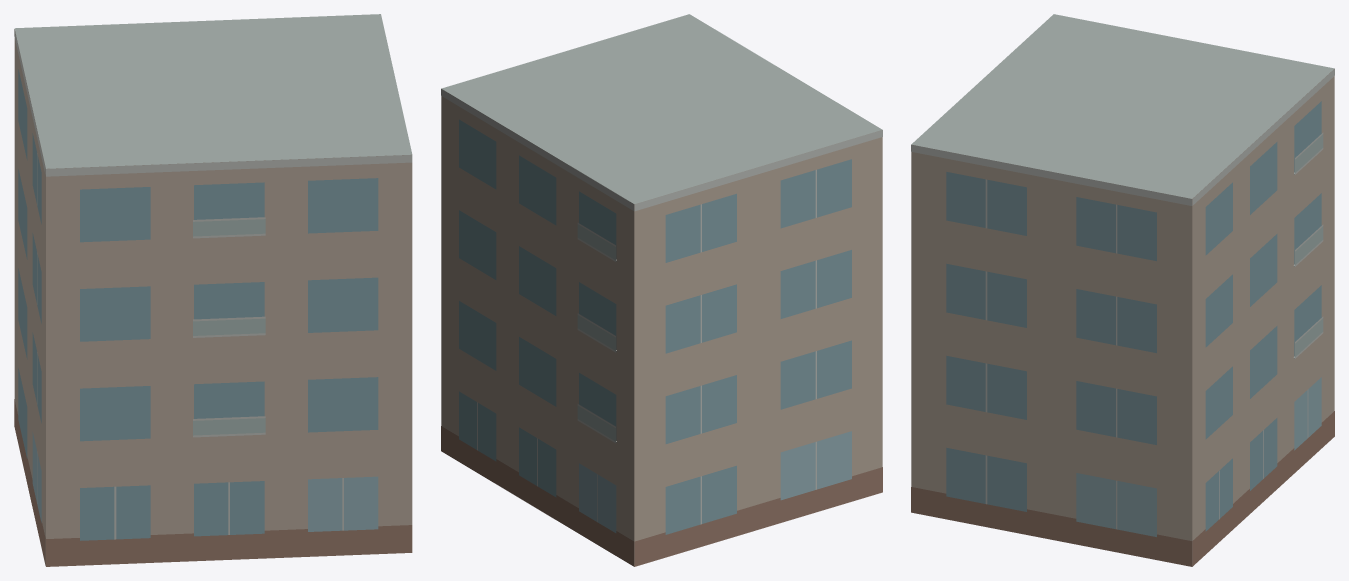
File: survey-upis-32656836.glb
3 views of the same model, side by side, from view 1: azimuth 30°, elevation 25°; view 2: azimuth 150°, elevation 25°; view 3: azimuth 270°, elevation 25° (orthographic). The views are drawn at different scales.
Visible parts, largest first — view 1: survey-upis-32656836.tmp; view 2: survey-upis-32656836.tmp; view 3: survey-upis-32656836.tmp.
Boxes of the visible parts, x1=… form: survey-upis-32656836.tmp: x1=14, y1=14, x2=412, y2=566; survey-upis-32656836.tmp: x1=441, y1=14, x2=882, y2=566; survey-upis-32656836.tmp: x1=911, y1=14, x2=1334, y2=566.
Bounding box in the file's own units: 13.37 × 12.4 × 12.95.
